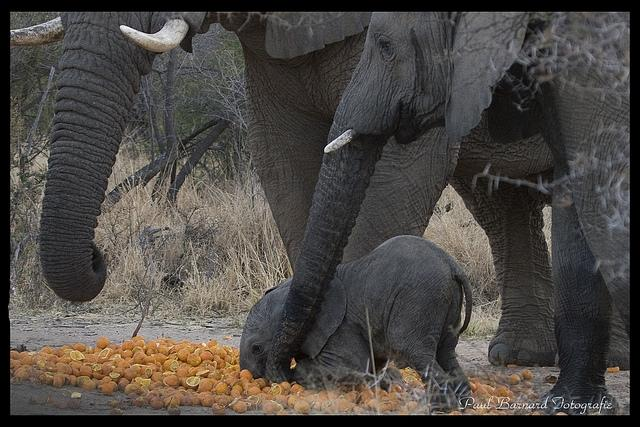orange: (320, 399, 340, 414), (356, 390, 374, 404), (163, 375, 182, 388), (237, 396, 255, 408), (494, 386, 511, 398), (186, 376, 200, 390), (123, 368, 137, 382), (177, 348, 191, 362), (150, 396, 164, 410), (96, 336, 110, 350), (187, 354, 201, 368), (121, 340, 137, 352), (275, 394, 288, 408), (202, 394, 215, 408), (118, 377, 130, 392), (337, 400, 352, 412), (133, 352, 148, 364), (290, 384, 305, 396), (13, 366, 30, 376), (215, 382, 228, 395), (167, 404, 181, 416), (272, 384, 286, 396), (164, 360, 178, 372), (212, 403, 226, 415), (58, 364, 72, 376), (166, 396, 180, 408), (98, 348, 114, 358), (145, 340, 157, 353), (288, 395, 300, 408), (140, 366, 153, 378), (15, 370, 29, 381), (125, 384, 139, 395), (256, 393, 267, 407), (388, 383, 403, 393), (70, 350, 85, 360), (240, 370, 252, 382), (32, 356, 48, 365), (80, 366, 92, 378), (263, 402, 275, 414), (102, 384, 114, 396), (82, 380, 96, 390), (82, 354, 96, 364), (151, 372, 165, 382), (118, 360, 132, 370), (367, 398, 377, 412), (509, 374, 521, 385), (343, 393, 356, 403), (46, 354, 59, 364), (175, 368, 188, 378), (386, 392, 402, 400), (199, 352, 213, 361), (216, 348, 227, 359), (231, 384, 243, 394), (109, 372, 121, 382), (44, 362, 56, 372), (520, 369, 532, 379), (241, 382, 256, 390), (37, 360, 47, 372), (407, 401, 419, 411), (92, 364, 103, 374), (130, 365, 142, 374), (144, 356, 156, 365), (146, 347, 158, 356), (74, 343, 86, 352), (475, 388, 488, 396), (205, 340, 218, 348), (168, 346, 181, 354), (16, 352, 29, 360), (197, 392, 210, 400), (200, 346, 210, 356), (54, 348, 64, 358), (52, 378, 62, 388), (69, 375, 78, 386), (35, 370, 46, 379), (196, 370, 210, 377), (140, 378, 152, 386), (97, 356, 109, 364), (222, 367, 234, 375), (318, 390, 330, 398), (378, 404, 391, 411), (163, 338, 176, 345), (10, 350, 19, 360), (108, 400, 119, 408), (40, 348, 54, 354), (404, 376, 416, 383), (126, 393, 140, 399), (198, 378, 212, 384), (606, 366, 620, 372), (10, 358, 17, 370), (63, 374, 71, 384), (230, 371, 240, 379), (72, 368, 80, 378), (12, 364, 22, 372), (136, 340, 146, 348), (231, 380, 244, 386), (301, 392, 314, 398), (112, 348, 124, 354), (412, 384, 424, 390), (45, 378, 54, 386), (62, 348, 74, 354), (486, 406, 498, 412), (132, 400, 142, 407), (146, 384, 156, 391), (176, 386, 187, 392), (105, 344, 116, 350), (474, 382, 482, 390), (488, 374, 496, 382), (401, 372, 410, 379), (496, 410, 506, 416), (58, 359, 70, 364), (528, 393, 538, 399), (217, 400, 227, 406), (230, 356, 237, 364), (193, 348, 200, 356), (212, 354, 220, 361), (230, 393, 241, 398), (233, 349, 240, 356), (225, 362, 231, 370), (524, 382, 532, 388), (40, 374, 46, 382), (506, 410, 514, 416), (114, 344, 122, 350), (449, 411, 461, 415), (506, 364, 518, 368), (290, 358, 296, 366), (483, 412, 498, 415), (188, 367, 195, 373), (320, 396, 328, 401), (202, 360, 212, 364), (556, 412, 568, 415), (186, 388, 195, 392), (210, 394, 217, 399), (224, 336, 232, 340), (532, 411, 540, 415), (509, 391, 515, 396), (464, 371, 469, 376), (524, 390, 530, 394), (162, 392, 168, 396), (231, 348, 237, 352), (319, 402, 323, 406), (193, 344, 197, 348), (328, 398, 332, 400)
